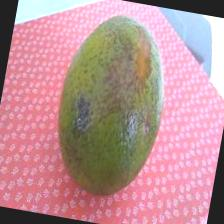Orange Rotten: (35, 0, 194, 211)
